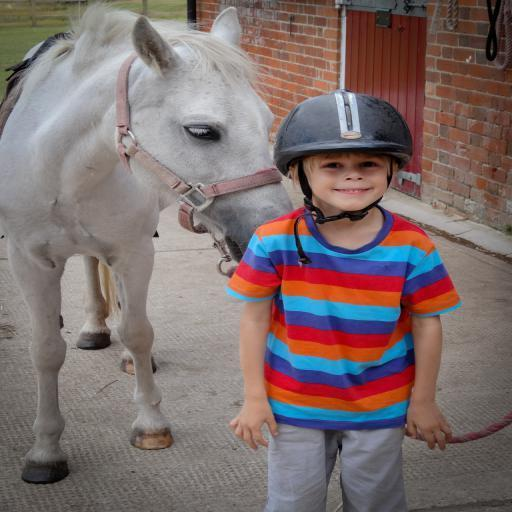horse: (0, 0, 296, 483)
